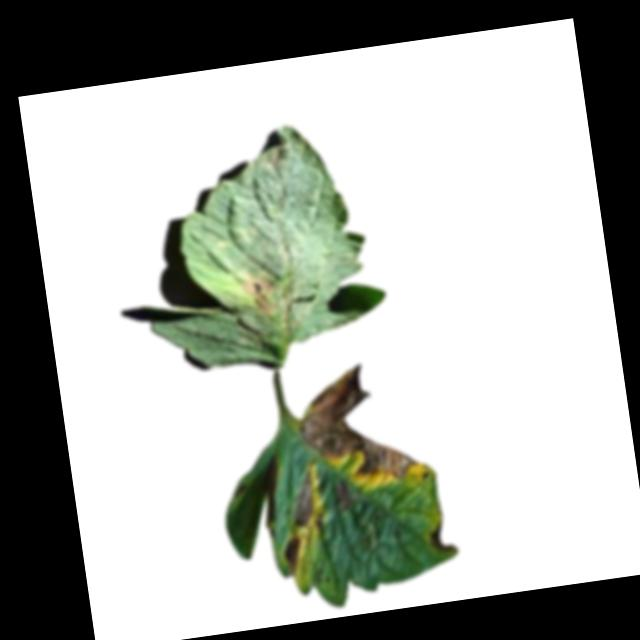Early_blight: (297, 356, 422, 491), (286, 470, 319, 529), (237, 275, 275, 318), (425, 523, 458, 558), (280, 536, 305, 578), (333, 481, 355, 520)
